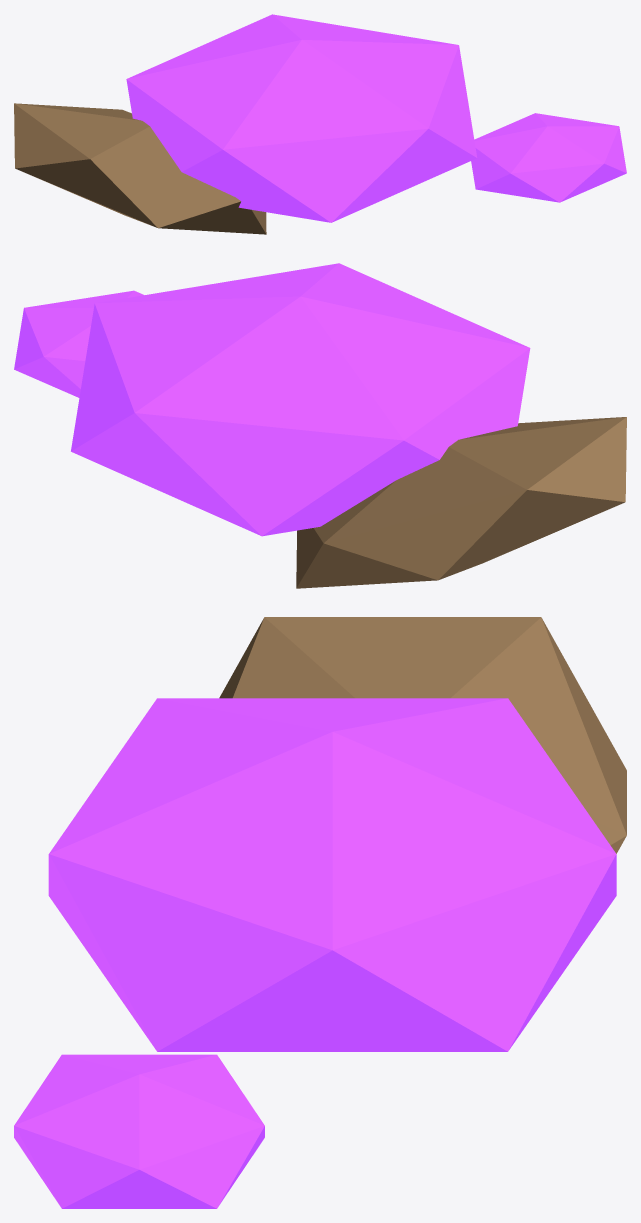
File: enemy_bloatcap_fragment_gleba.glb
3 renders of one model, top to bottom at view 1: azimuth 30°, elevation 25°; view 2: azimuth 150°, elevation 25°; view 3: azimuth 270°, elevation 25°, orthographic. The views are drawn at different scales.
Visible parts, largest first — view 1: Fragment_Gleba_Clot, Fragment_Gleba_Rim, Fragment_Gleba_Spatter; view 2: Fragment_Gleba_Clot, Fragment_Gleba_Rim, Fragment_Gleba_Spatter; view 3: Fragment_Gleba_Clot, Fragment_Gleba_Rim, Fragment_Gleba_Spatter.
Part boxes in pixels (x1,y1,x2,y2): Fragment_Gleba_Clot: (126, 14, 477, 222); Fragment_Gleba_Rim: (14, 103, 266, 234); Fragment_Gleba_Spatter: (471, 113, 626, 202); Fragment_Gleba_Clot: (71, 263, 530, 536); Fragment_Gleba_Rim: (296, 417, 626, 588); Fragment_Gleba_Spatter: (14, 290, 144, 397); Fragment_Gleba_Clot: (48, 698, 616, 1051); Fragment_Gleba_Rim: (219, 617, 626, 853); Fragment_Gleba_Spatter: (14, 1054, 264, 1208).
Size of the model in its own units: 0.3178 by 0.0958 by 0.1745.
